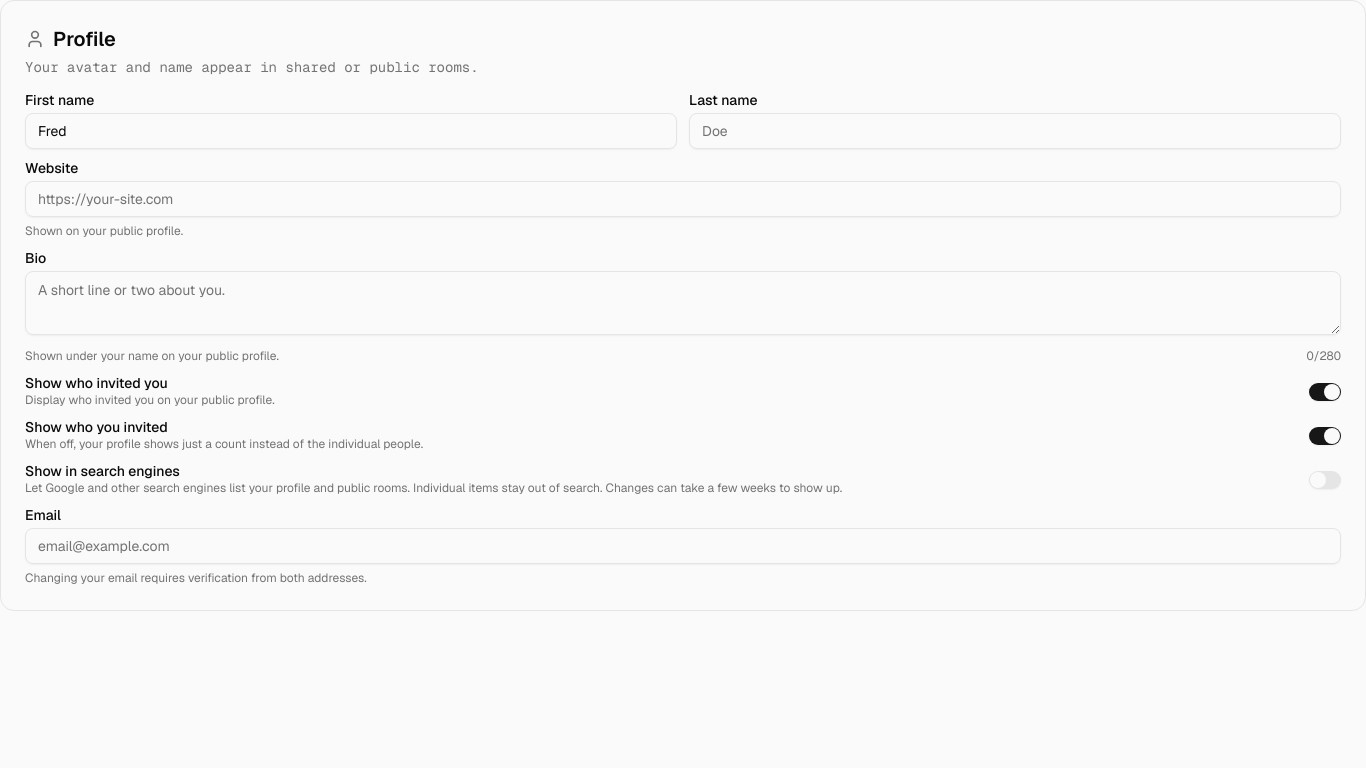
Test: ProfileSettings visibility toggles › preserves bio edited while the save is in flight
Type "Hello" into the text box labelled "Bio".
click(683, 303); type("Hello")  # box [25, 271, 1341, 335]
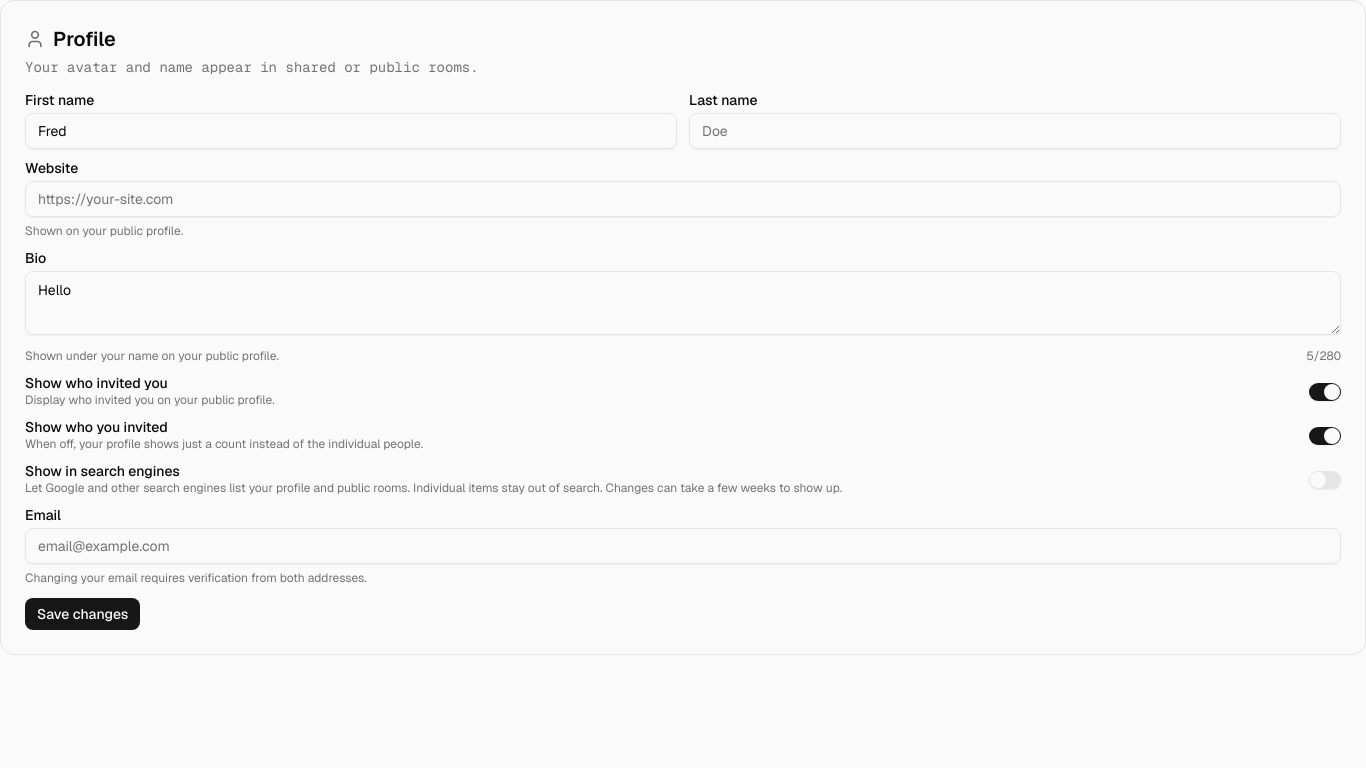
Click the button "Save changes".
click(83, 614)  # box [25, 598, 140, 630]
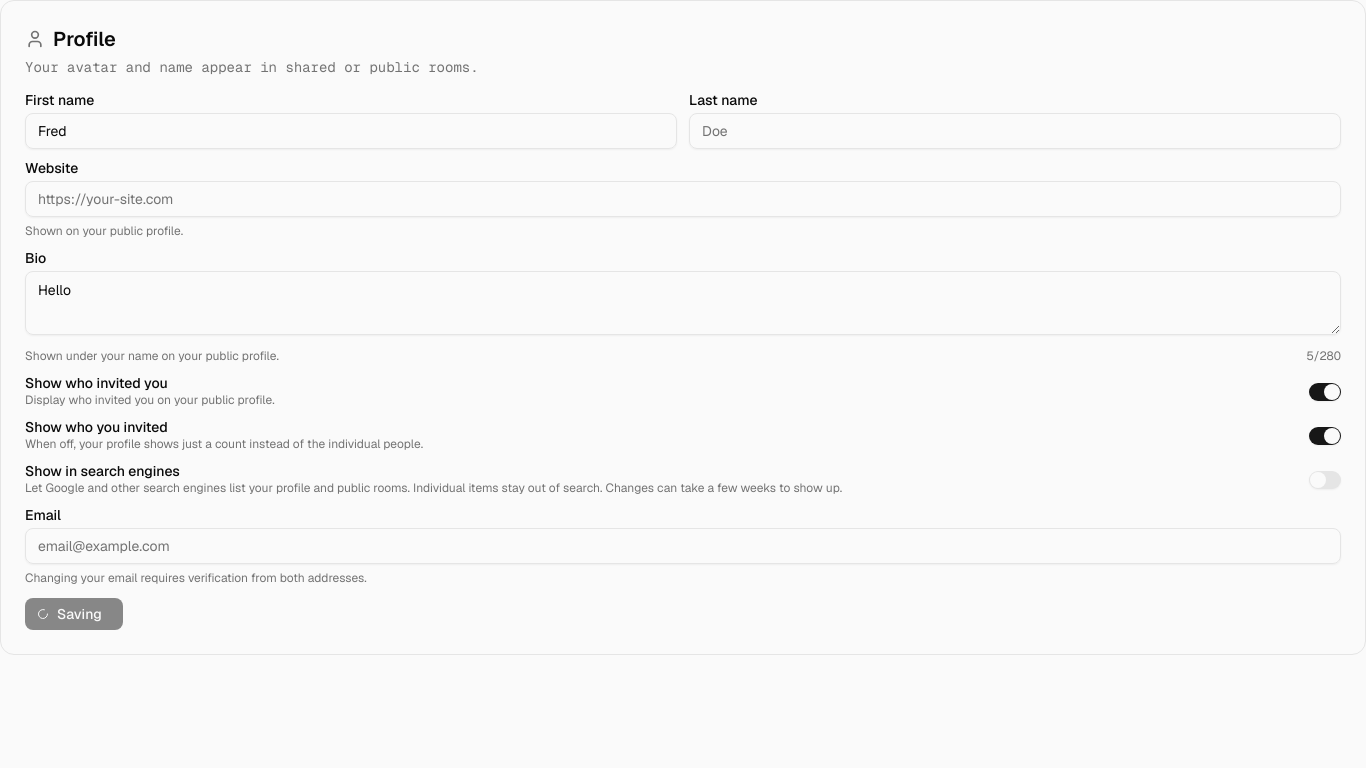
Note: User keeps typing before the response lands
Replace the text in the text box labelled "Bio" with "Hello world" at (683, 303), box [25, 271, 1341, 335]
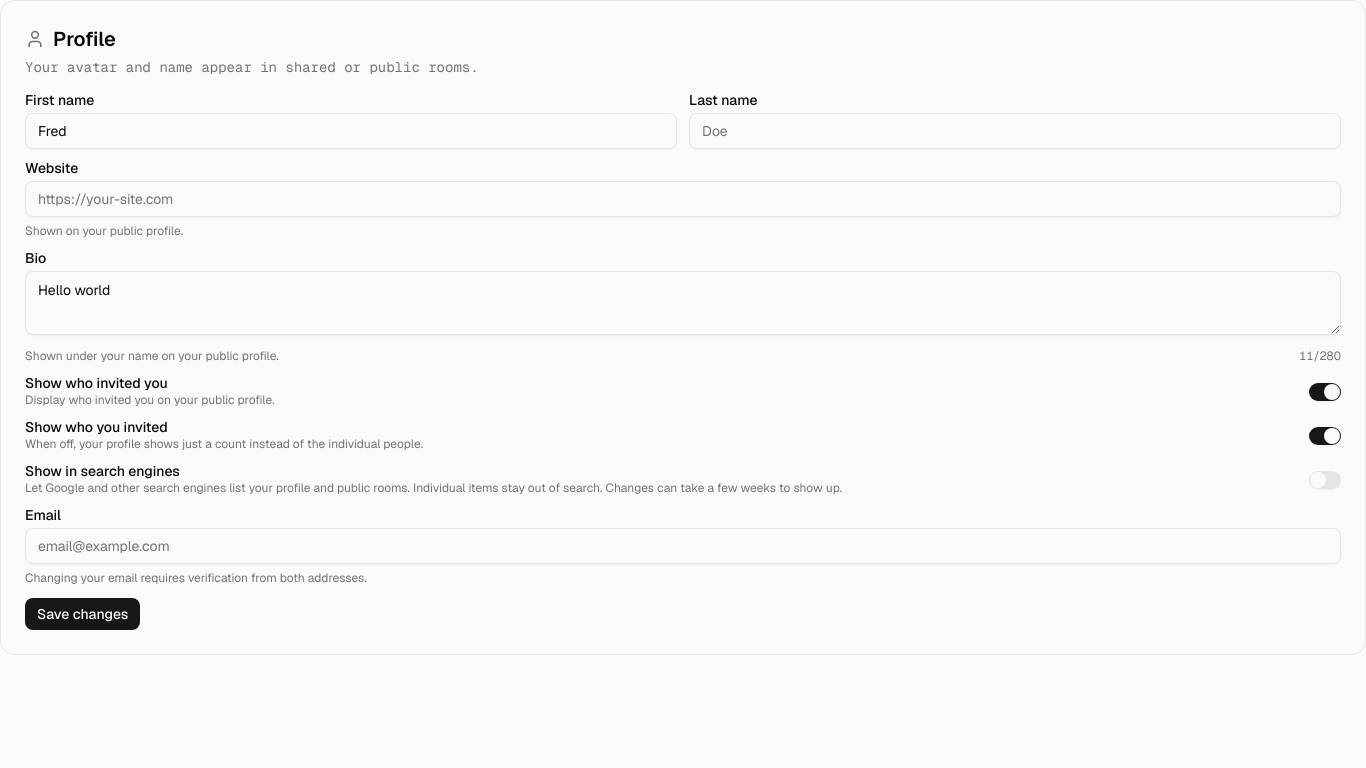
Result: the button "Save changes" is shown at [25, 598, 140, 630]
